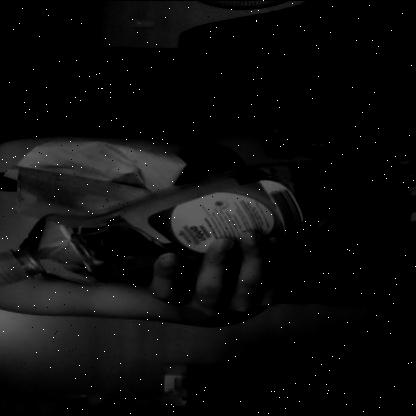Plastic Bottle: (0, 158, 334, 290)
